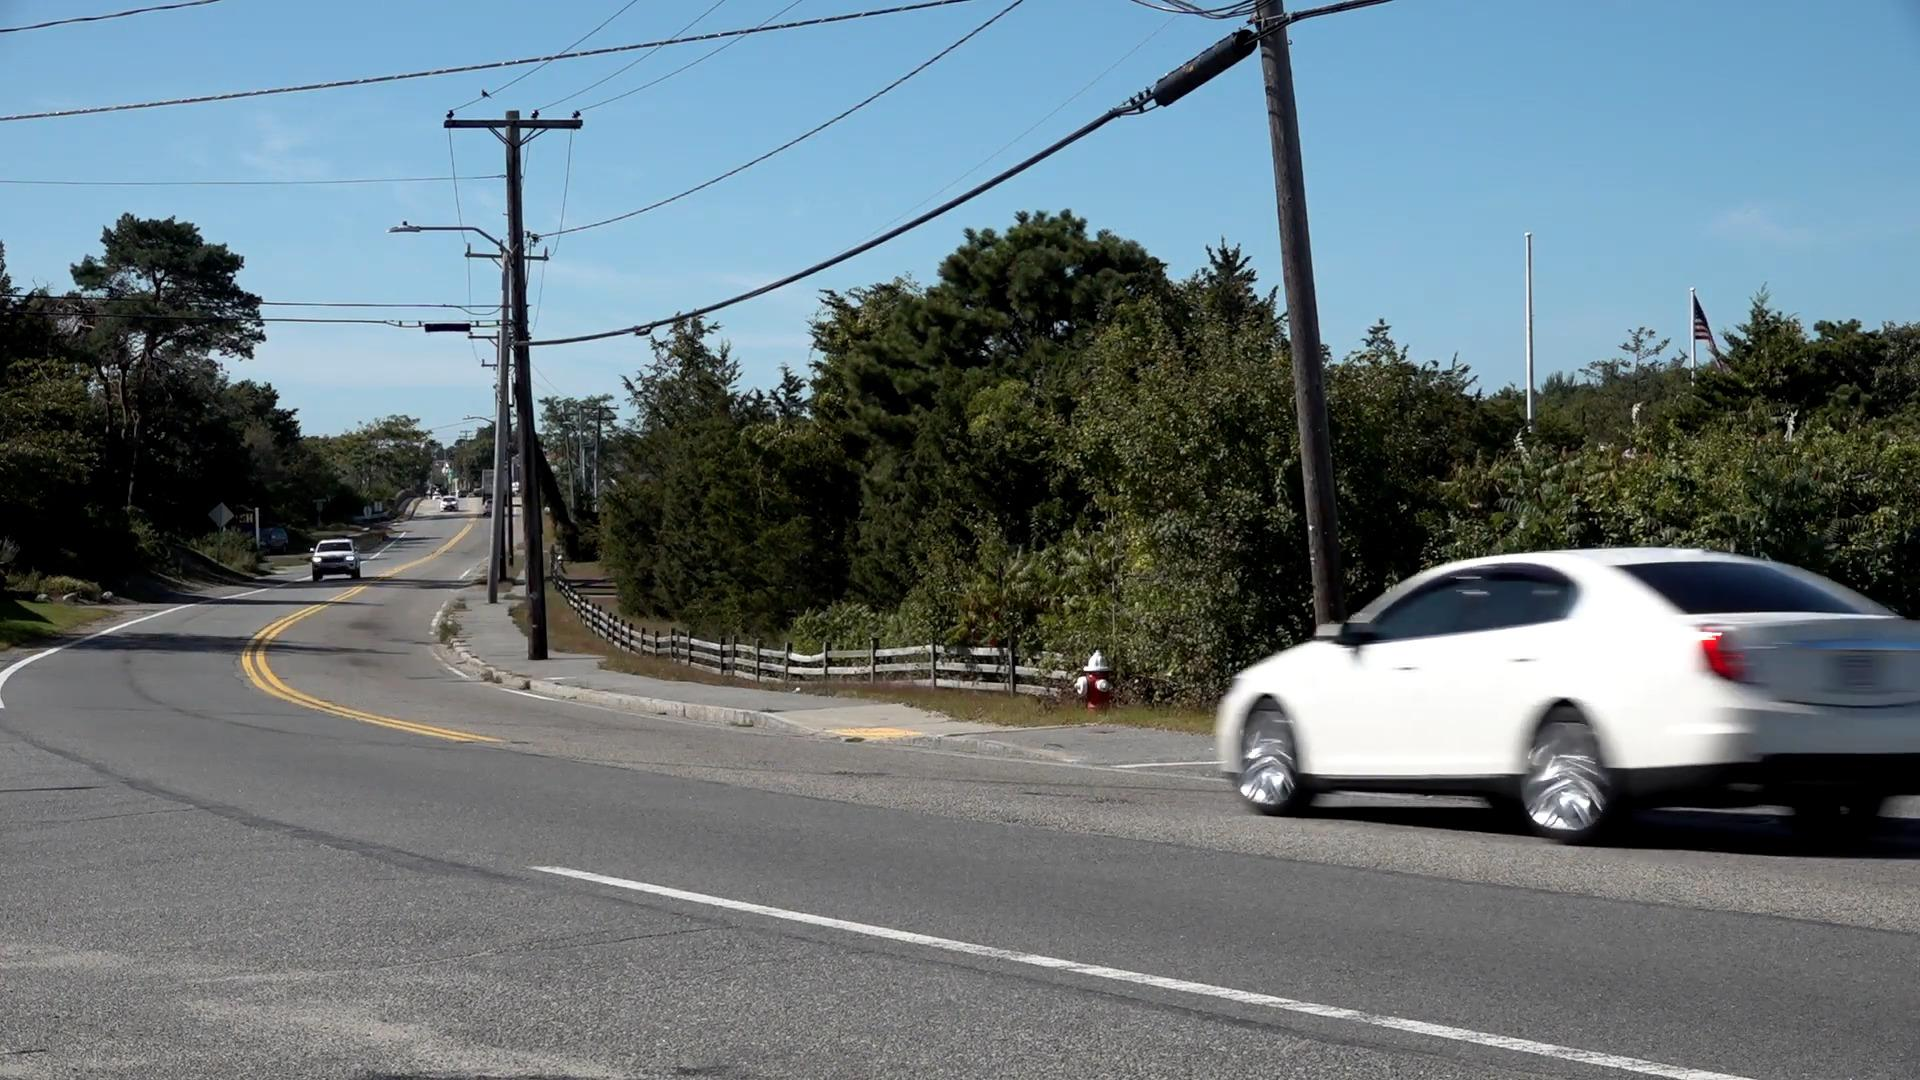sedans: (1215, 545, 1920, 841)
suv: (310, 538, 363, 582)
